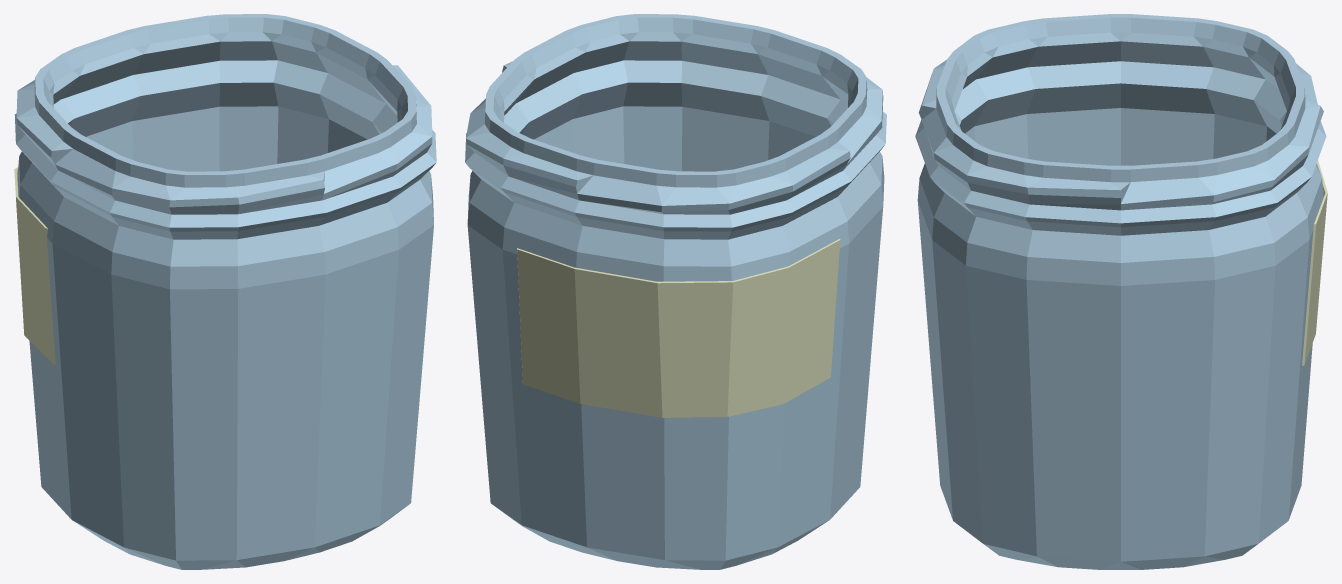
The model's file is bocal.fbx.
3 renders of one model, left to right at view 1: azimuth 30°, elevation 25°; view 2: azimuth 150°, elevation 25°; view 3: azimuth 270°, elevation 25°, orthographic.
Parts seen in each view (by area): view 1: bocal, etiquette; view 2: bocal, etiquette; view 3: bocal, etiquette.
Part boxes in pixels (box(x1,y1,x2,y2)): bocal: box(15, 14, 436, 569); etiquette: box(14, 167, 55, 365); bocal: box(465, 14, 886, 569); etiquette: box(517, 239, 840, 417); bocal: box(915, 14, 1326, 569); etiquette: box(1302, 160, 1327, 365).
Bounding box in the file's own units: 90.99 × 101 × 91.28.
